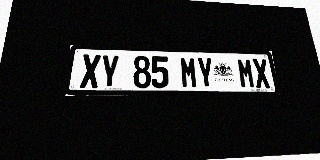5: (151, 56, 169, 88)
8: (133, 55, 151, 88)
M: (236, 58, 256, 88), (180, 57, 198, 88)
X: (80, 54, 101, 88), (252, 58, 271, 88)
Y: (100, 55, 119, 88), (196, 57, 215, 88)
